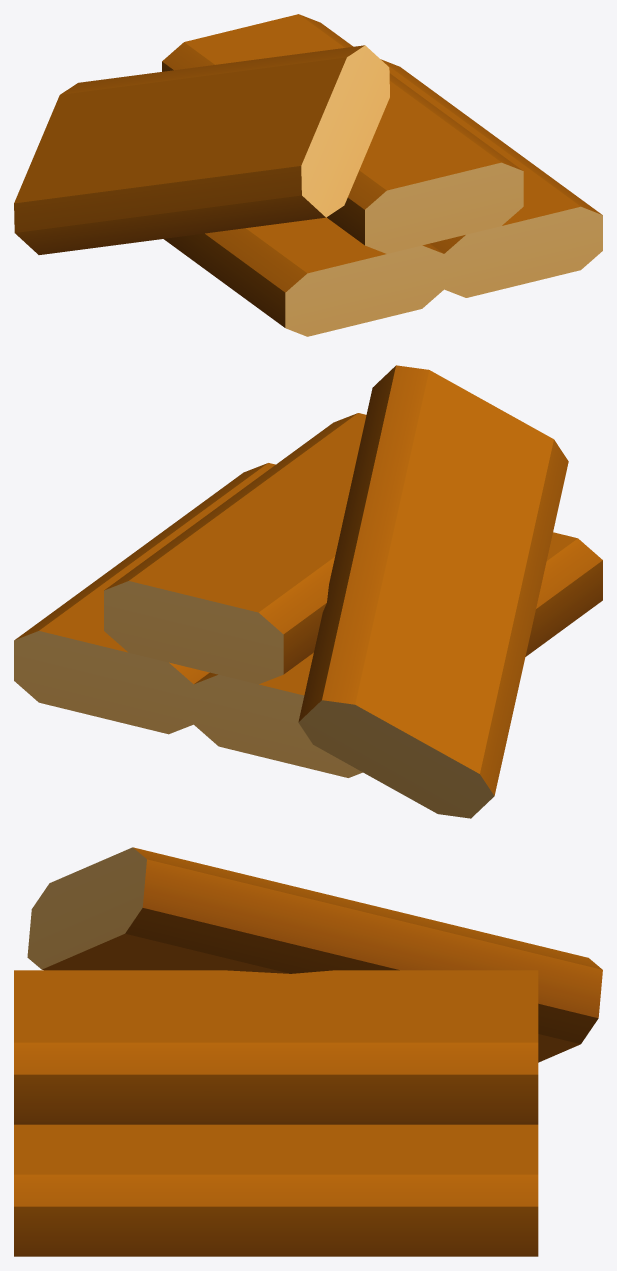
Rendered from Collectable_Wood_Plank_01.fbx.
3 views of the same model, one above another, from view 1: azimuth 30°, elevation 25°; view 2: azimuth 150°, elevation 25°; view 3: azimuth 270°, elevation 25° (orthographic). The views are drawn at different scales.
Visible parts, largest first — view 1: Collectable_Wood_Plank_01; view 2: Collectable_Wood_Plank_01; view 3: Collectable_Wood_Plank_01.
Boxes of the visible parts, x1=… form: Collectable_Wood_Plank_01: x1=14, y1=14, x2=602, y2=336; Collectable_Wood_Plank_01: x1=14, y1=365, x2=602, y2=818; Collectable_Wood_Plank_01: x1=14, y1=847, x2=602, y2=1256.
Bounding box in the file's own units: 125 × 76.19 × 122.
